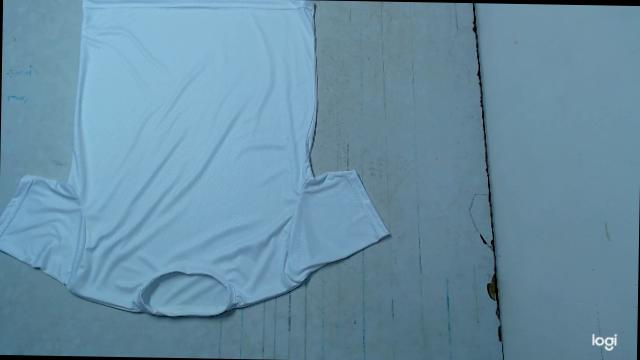new-garment: (0, 0, 388, 315)
